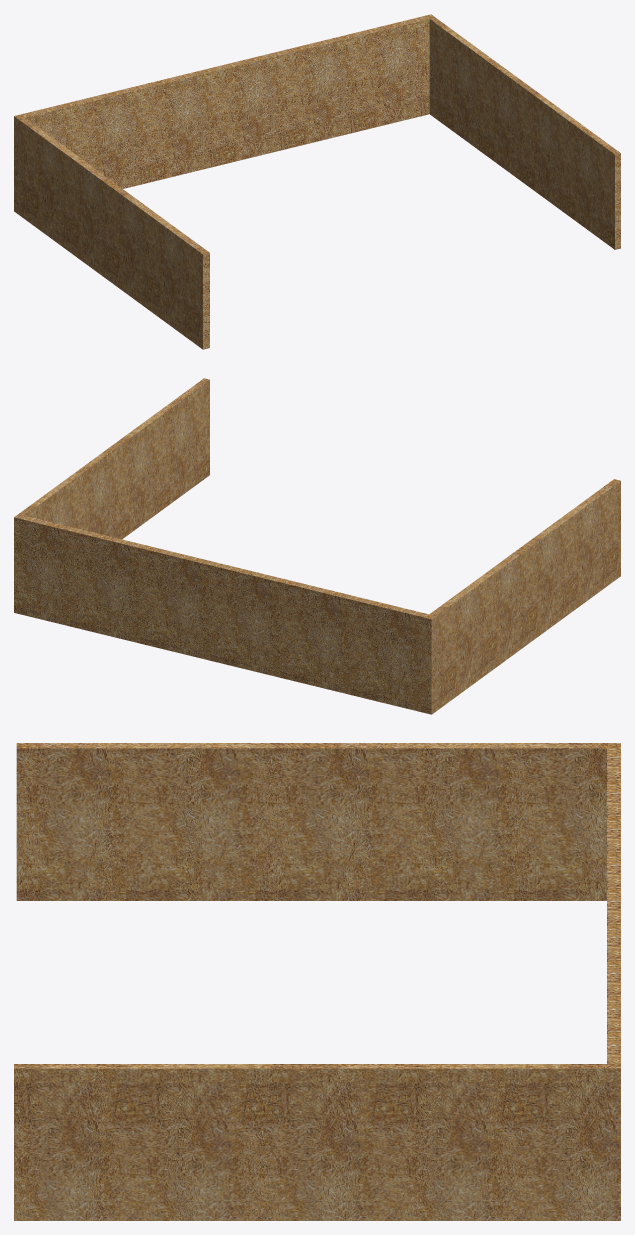
Rendered from fence.fbx.
The picture shows the model from 3 angles, top to bottom: view 1: azimuth 30°, elevation 25°; view 2: azimuth 150°, elevation 25°; view 3: azimuth 270°, elevation 25°; orthographic projection. The views are drawn at different scales.
Visible parts, largest first — view 1: Cube; view 2: Cube; view 3: Cube.
Part boxes in pixels (x1,y1,x2,y2): Cube: (14,14,620,349); Cube: (14,378,620,714); Cube: (14,743,620,1220).
Size of the model in its own units: 459 by 100 by 361.
1 material, 1 textured.
